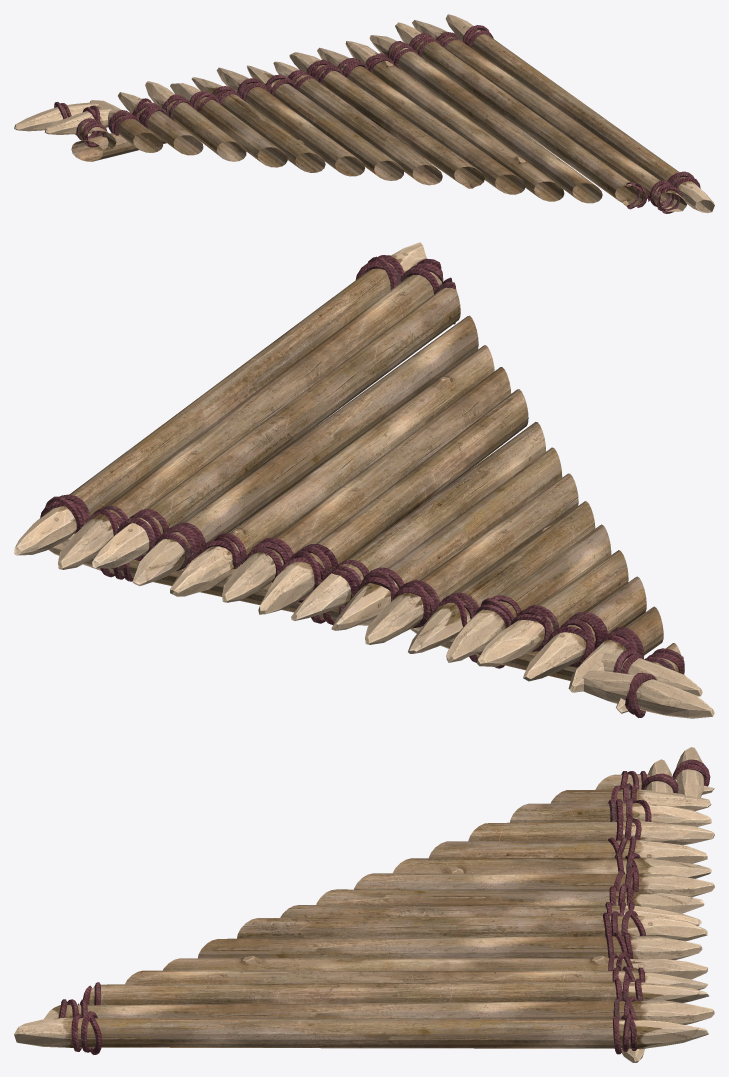
3 views of the same model, one above another, from view 1: azimuth 30°, elevation 25°; view 2: azimuth 150°, elevation 25°; view 3: azimuth 270°, elevation 25° (orthographic). The views are drawn at different scales.
Parts seen in each view (by area): view 1: SM_Garou_Set_SM_LogPlatform_8x8_45_LOD0; view 2: SM_Garou_Set_SM_LogPlatform_8x8_45_LOD0; view 3: SM_Garou_Set_SM_LogPlatform_8x8_45_LOD0.
Boxes of the visible parts, <box> form: SM_Garou_Set_SM_LogPlatform_8x8_45_LOD0: <box>14,14,714,213</box>; SM_Garou_Set_SM_LogPlatform_8x8_45_LOD0: <box>14,242,714,718</box>; SM_Garou_Set_SM_LogPlatform_8x8_45_LOD0: <box>14,747,714,1062</box>.
Size of the model in its own units: 7.92 by 0.753 by 8.02.
1 material, 1 textured.
